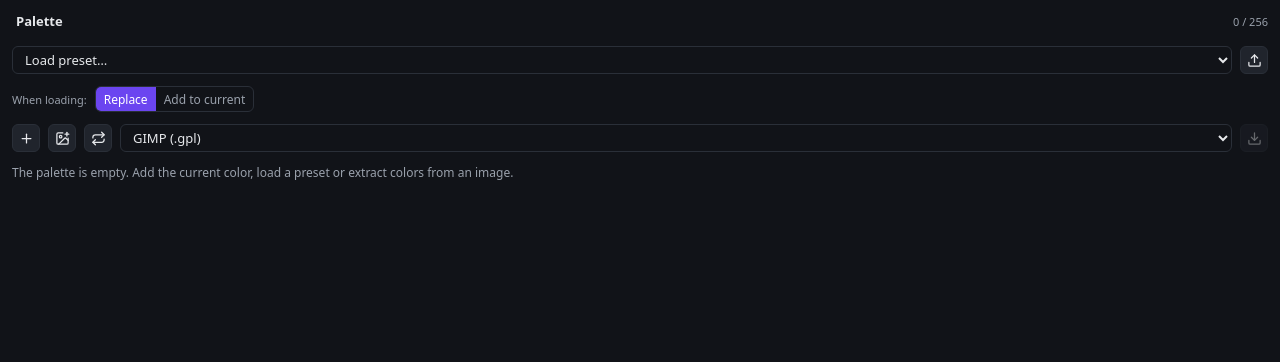
Test: PalettePanel › starts empty with guidance, and adds the current color
Expected: the text "palette is empty" is shown, [12, 164, 513, 181]
Expected: the button named "Export palette" is disabled, [1240, 124, 1268, 152]
Click the button named "Add current color to the palette" at (26, 138), box [12, 124, 40, 152]
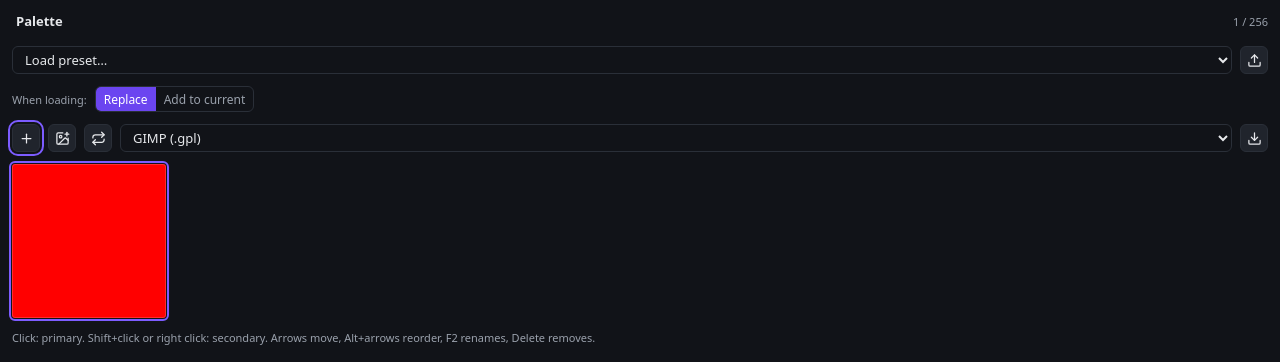
Expected: the button named "FF0000, 1 of 1, primary color" is shown, [12, 164, 166, 318]
